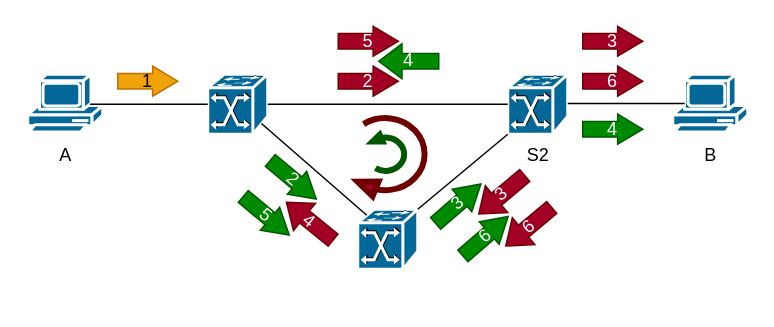
The diagram is 774 pixels wide and 327 high, and some of its shapes have lost their labels. The shapes that lost their labels are listed below. From the top down, each one's centre as x and y in pixels, then its label:
the point at 237,103: S1
the point at 387,238: S3
